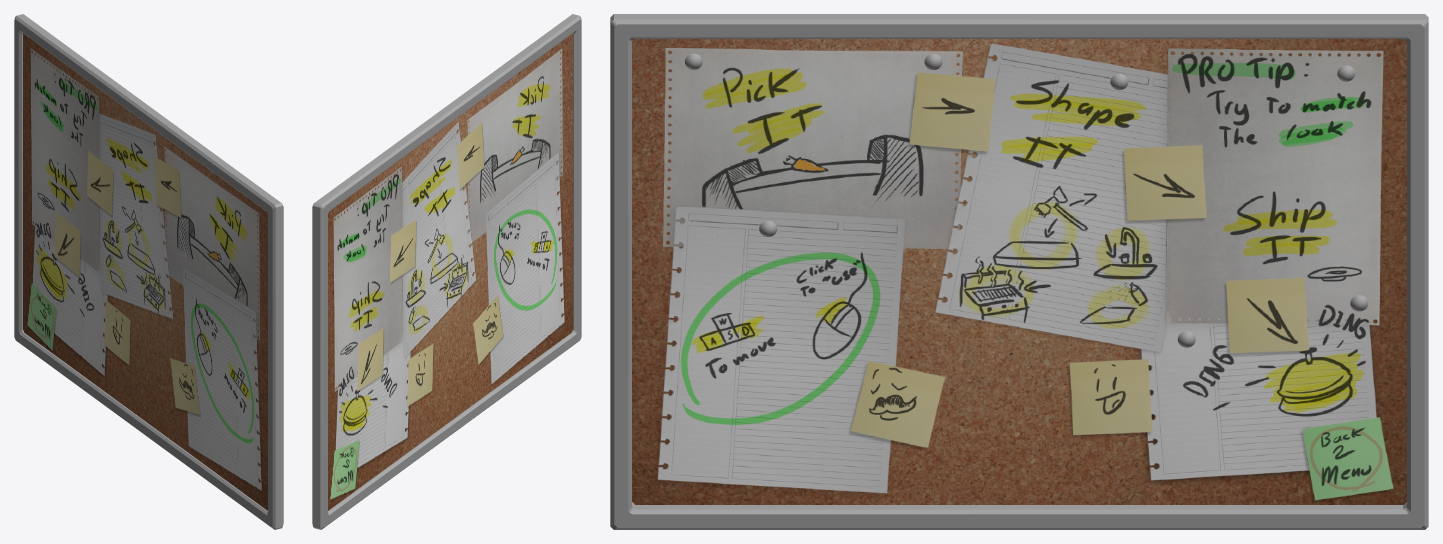
The model's file is SET_Board.fbx.
3 renders of one model, left to right at view 1: azimuth 30°, elevation 25°; view 2: azimuth 150°, elevation 25°; view 3: azimuth 270°, elevation 25°, orthographic. The views are drawn at different scales.
Parts seen in each view (by area): view 1: BoardBoard, BoardBorder; view 2: BoardBoard, BoardBorder; view 3: BoardBoard, BoardBorder, Board_Pin.
Boxes of the visible parts, x1,y1,x2,y2 form: BoardBoard: (23,33,267,510); BoardBorder: (14,14,283,529); BoardBoard: (328,33,572,510); BoardBorder: (312,14,581,529); BoardBoard: (632,39,1406,504); BoardBorder: (610,14,1428,529); Board_Pin: (684,53,1368,347).
Bounding box in the file's own units: 0.417 × 11.67 × 16.95.
